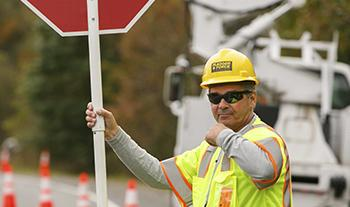helmet: (202, 50, 260, 87)
